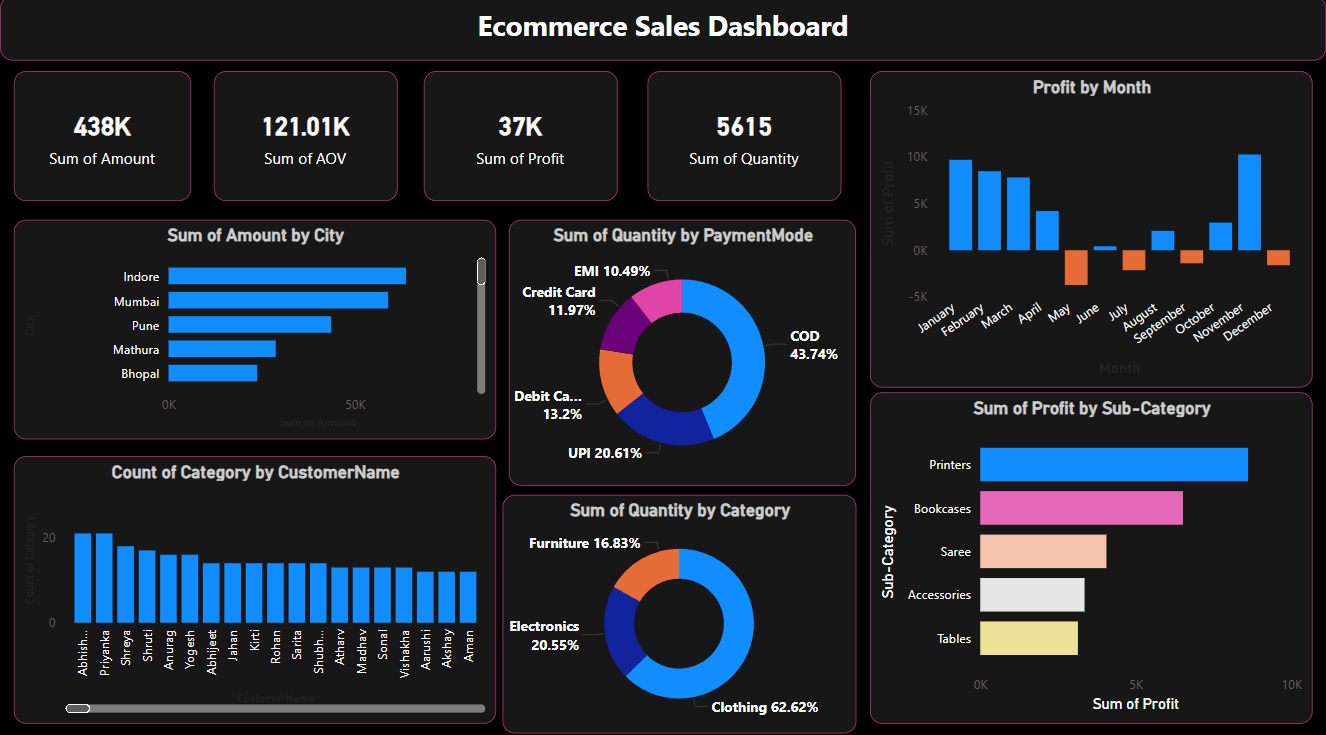

The dashboard page shown, as its layout file describes it:
{"tool":"powerbi","page":{"name":"Page 1","canvas":[1280,720],"ordinal":0},"visuals":[{"type":"textbox","box":[0,0,1280,62.7],"z":0},{"type":"columnChart","title":"Profit by Month","fields":{"Category":["Orders.Order Date.Variation.Date Hierarchy.Month"],"Y":["Details.Profit"]},"box":[839.7,72.4,427.1,305.2],"z":1000},{"type":"clusteredBarChart","fields":{"Category":["Details.Sub-Category"],"Y":["Details.Profit"]},"box":[839.7,382.4,427.1,319.7],"z":2000},{"type":"donutChart","fields":{"Category":["Details.Category"],"Y":["Details.Quantity"]},"box":[485,481.4,341.4,230.4],"z":3000},{"type":"donutChart","fields":{"Y":["Details.Quantity"],"Category":["Details.PaymentMode"]},"box":[491,216,335.4,257],"z":4000},{"type":"card","fields":{"Values":["Details.Amount"]},"box":[13.3,72.4,171.3,125.5],"z":5000},{"type":"card","fields":{"Values":["Details.Profit"]},"box":[409,72.4,187,125.5],"z":6000},{"type":"card","fields":{"Values":["Details.Quantity"]},"box":[624.9,72.4,187,125.5],"z":7000},{"type":"card","fields":{"Values":["Details.AOV"]},"box":[206.3,72.4,177.3,125.5],"z":8000},{"type":"clusteredBarChart","fields":{"Y":["Details.Amount"],"Category":["Orders.City"]},"box":[13.3,216,465.7,212.3],"z":9000},{"type":"clusteredColumnChart","fields":{"Category":["Orders.CustomerName"],"Y":["Details.Category"]},"box":[13.3,444,465.7,258.2],"z":10000}]}

Visuals, with their boxes in screenshot pixels (x1, y1, x2, y2), scaled from the page's 1280x720 canvas onto the 1326x735 screenshot:
textbox: <region>0, 0, 1325, 64</region>
"Profit by Month" columnChart: <region>870, 74, 1312, 385</region>
clusteredBarChart - Details.Sub-Category x Details.Profit: <region>870, 390, 1312, 717</region>
donutChart - Details.Category x Details.Quantity: <region>502, 491, 856, 727</region>
donutChart - Details.Quantity x Details.PaymentMode: <region>509, 220, 856, 483</region>
card - Details.Amount: <region>14, 74, 191, 202</region>
card - Details.Profit: <region>424, 74, 617, 202</region>
card - Details.Quantity: <region>647, 74, 841, 202</region>
card - Details.AOV: <region>214, 74, 397, 202</region>
clusteredBarChart - Details.Amount x Orders.City: <region>14, 220, 496, 437</region>
clusteredColumnChart - Orders.CustomerName x Details.Category: <region>14, 453, 496, 717</region>
